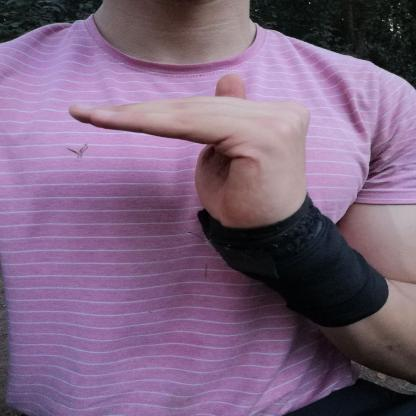KHAA: (46, 64, 342, 250)
